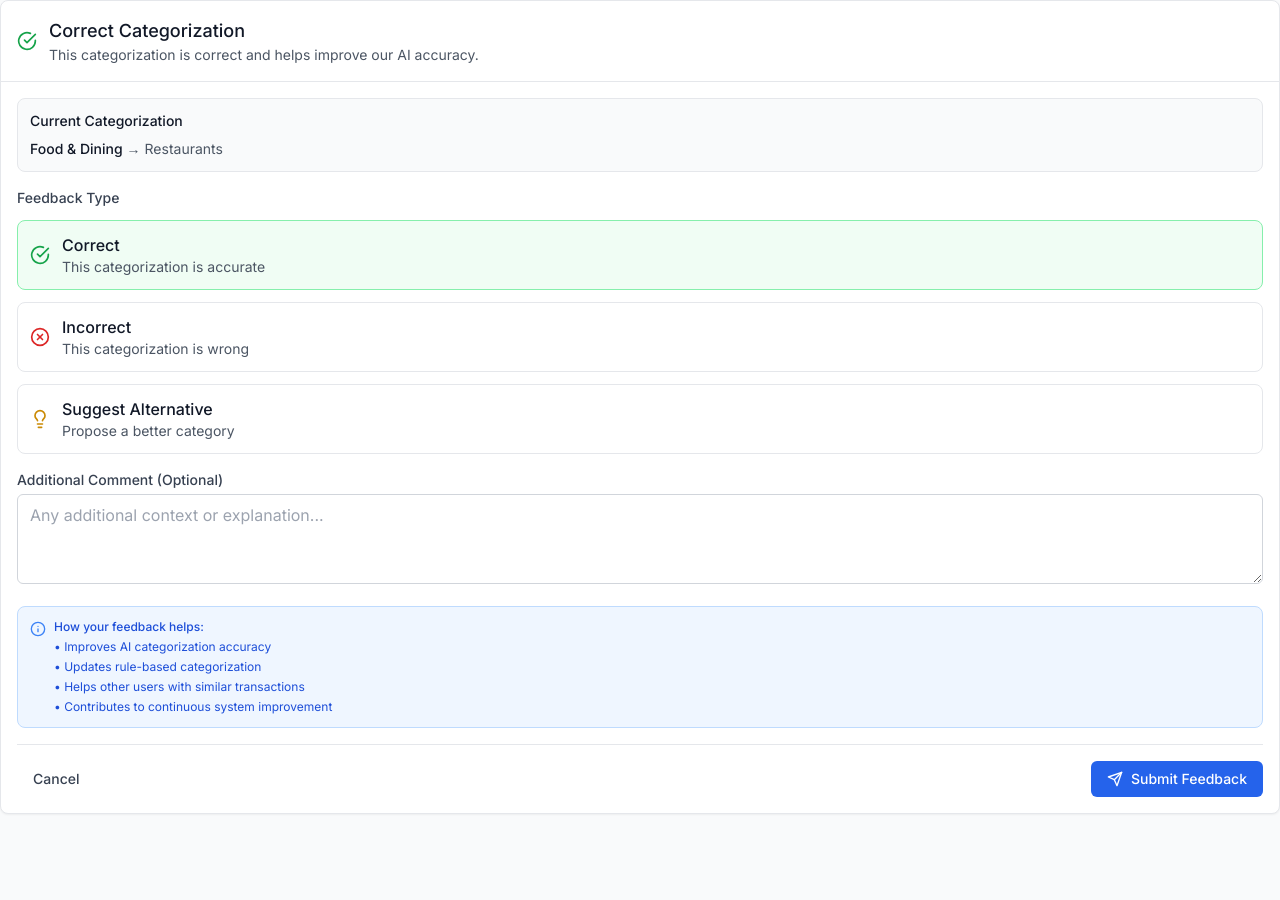
Scenario: FeedbackForm › handles API errors gracefully
Click the button "Correct This categorization is accurate" at (91, 245), box left=17, top=220, right=1263, bottom=290
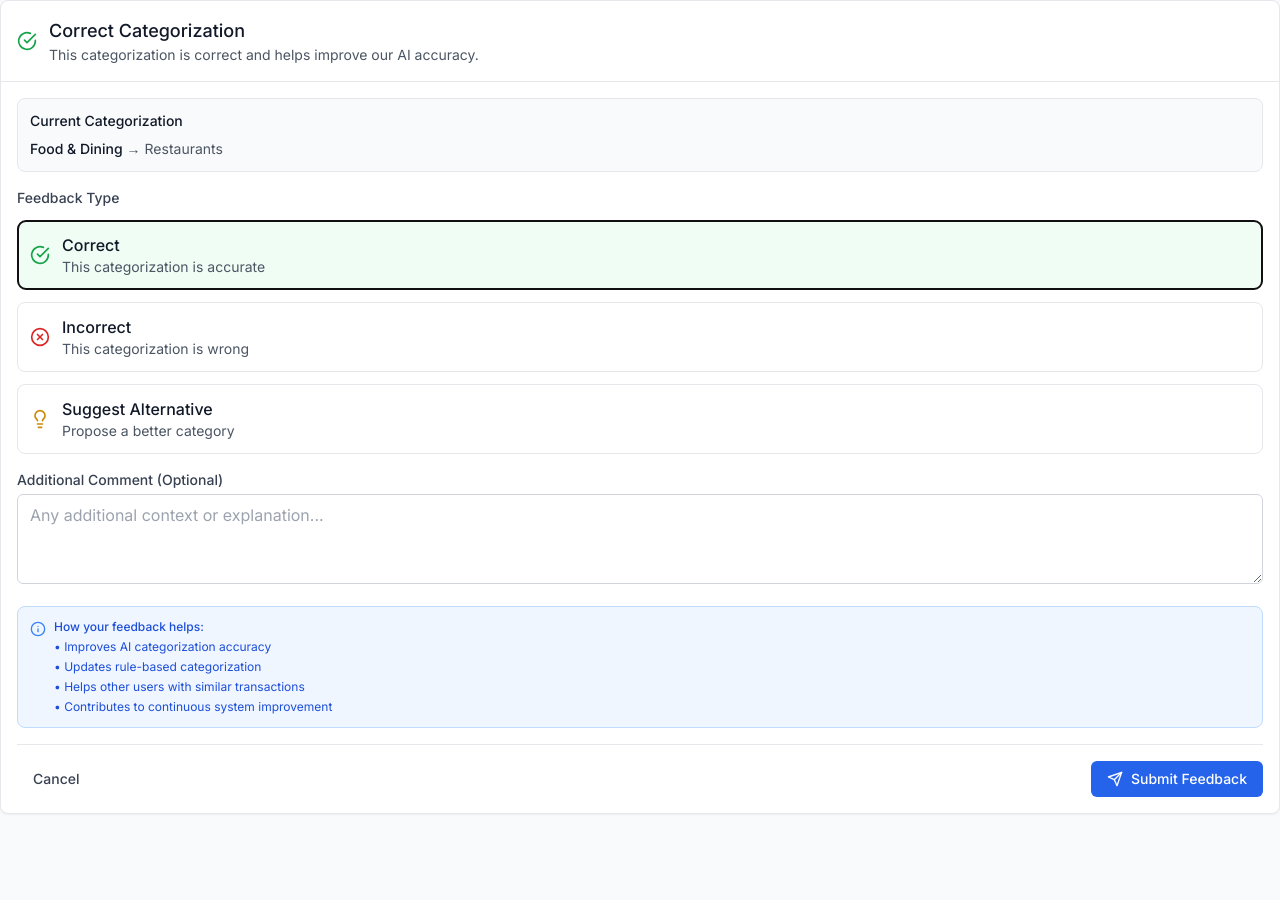
Click the button "Submit Feedback" at (1177, 779), box left=1091, top=761, right=1263, bottom=797
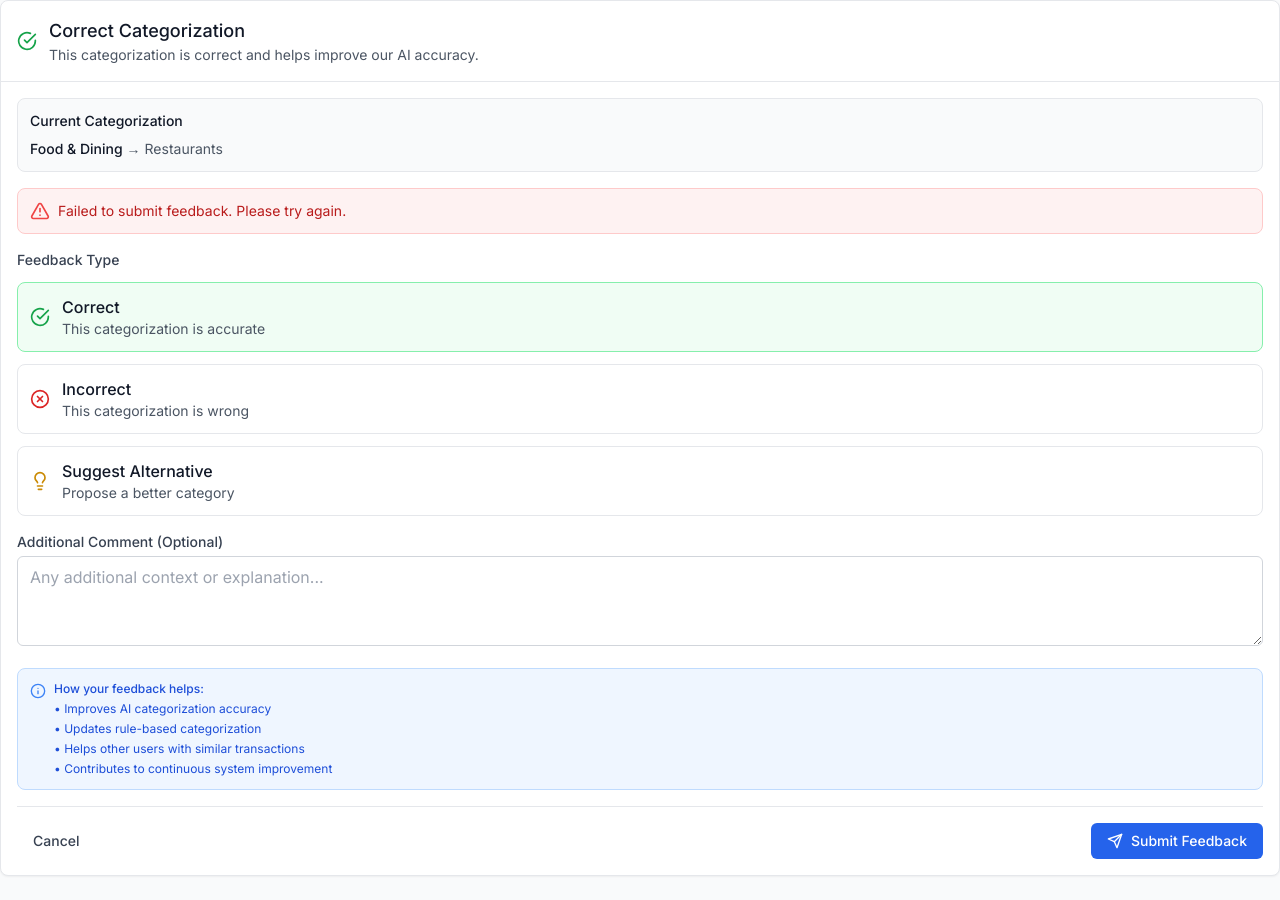
Expected: the text "Failed to submit feedback. Please try again." is shown, left=58, top=201, right=346, bottom=221
